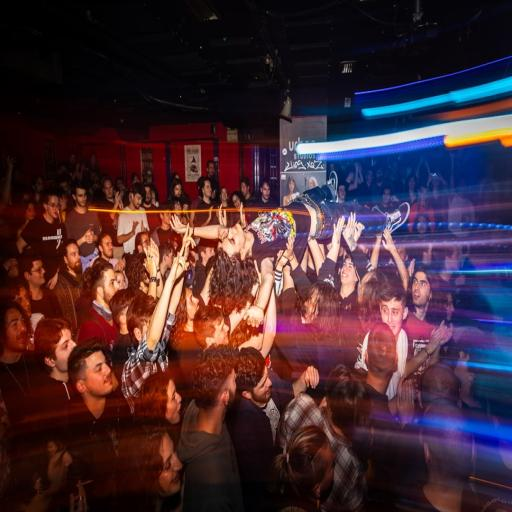face: (81, 352, 113, 398), (159, 434, 182, 496), (47, 442, 72, 495), (381, 299, 407, 339), (5, 308, 27, 352), (252, 367, 272, 406), (222, 224, 245, 255), (165, 380, 181, 424), (412, 271, 431, 307), (455, 351, 474, 383), (103, 269, 118, 304), (26, 260, 45, 287), (65, 244, 82, 274), (304, 292, 318, 324), (341, 258, 357, 285), (213, 319, 229, 344), (445, 245, 460, 271), (186, 289, 198, 319), (44, 196, 59, 220), (227, 370, 236, 405), (100, 236, 113, 259), (74, 188, 87, 207), (446, 293, 454, 321), (103, 180, 113, 200)
